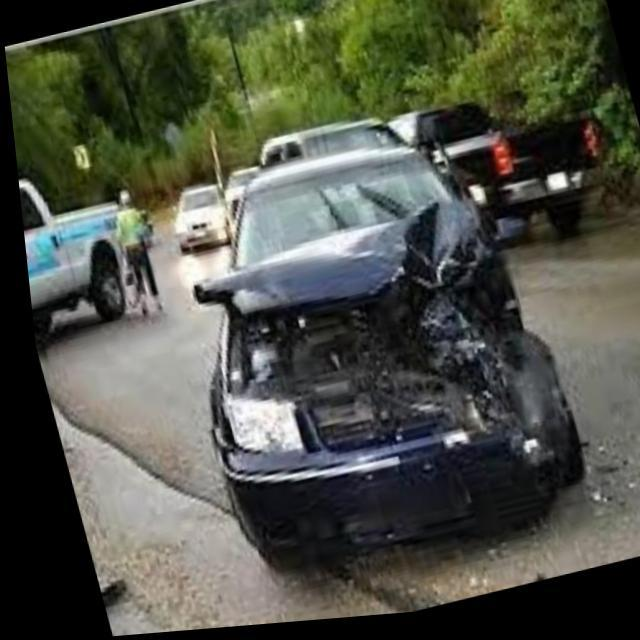crash: (185, 203, 546, 469)
